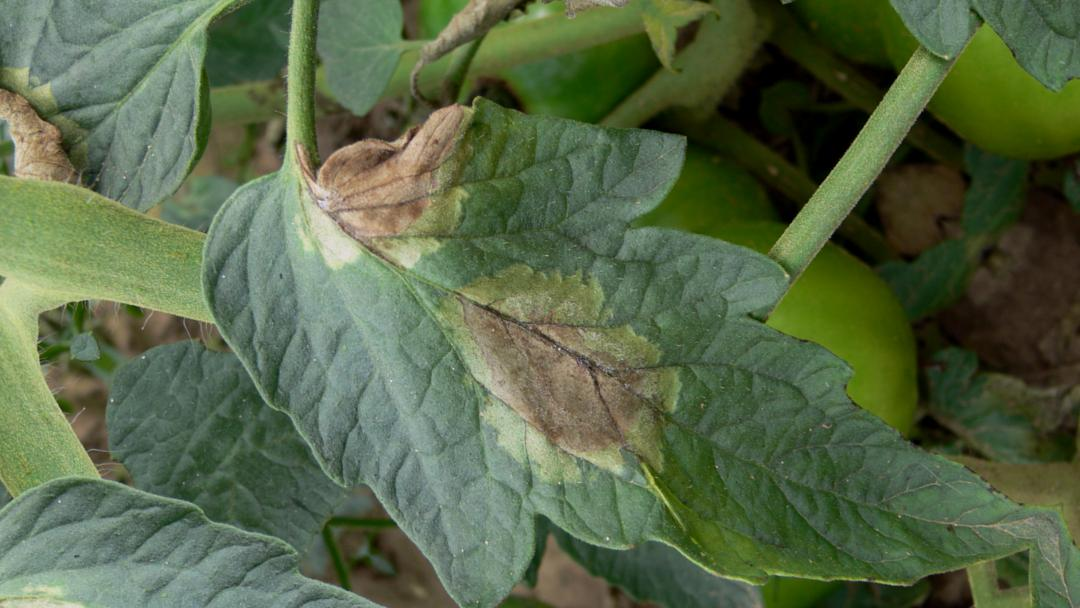Tomato leaf late blight: (103, 0, 1080, 608)
